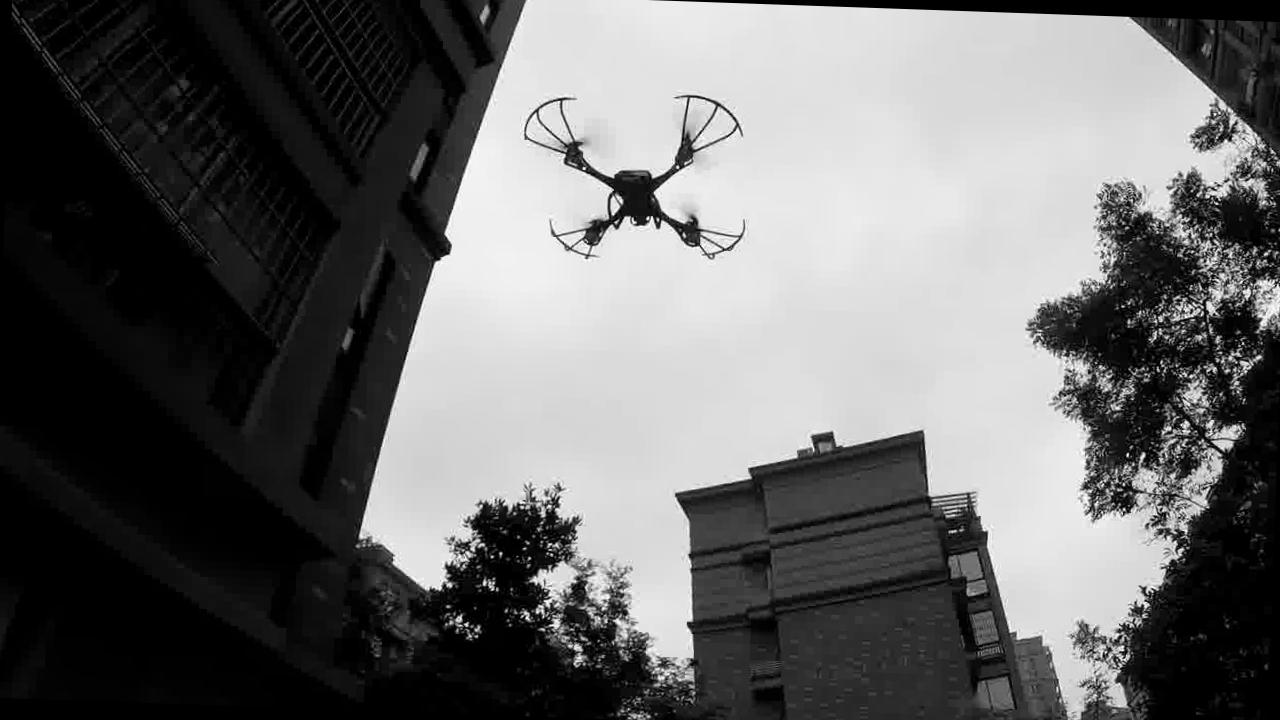drone: (528, 80, 748, 274)
